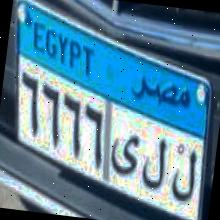6: (34, 77, 66, 155), (56, 88, 86, 165), (77, 100, 109, 171), (14, 67, 44, 138)
laam: (166, 139, 201, 214), (138, 128, 170, 199)
yaa: (105, 122, 141, 189)
